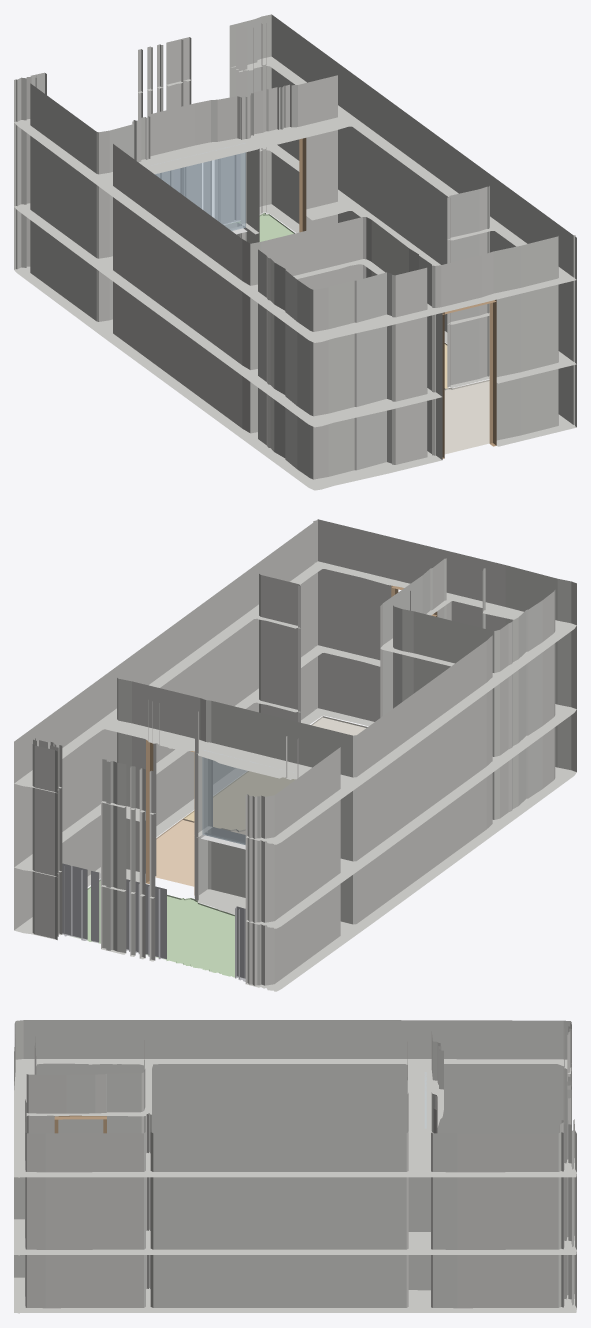
3 renders of one model, top to bottom at view 1: azimuth 30°, elevation 25°; view 2: azimuth 150°, elevation 25°; view 3: azimuth 270°, elevation 25°, orthographic. The views are drawn at different scales.
Visible parts, largest first — view 1: walls, window_3, railings, floor_4_Entry, door_2, door_0, floor_0_Outdoor; view 2: walls, railings, floor_0_Outdoor, window_3, floor_1_Kitchen, floor_2_Living_Room, door_0; view 3: walls.
Boxes of the visible parts, x1=… form: walls: x1=14, y1=14, x2=576, y2=490; window_3: x1=155, y1=143, x2=245, y2=230; railings: x1=155, y1=154, x2=240, y2=224; floor_4_Entry: x1=444, y1=379, x2=489, y2=454; door_2: x1=442, y1=299, x2=496, y2=458; door_0: x1=299, y1=138, x2=306, y2=232; floor_0_Outdoor: x1=230, y1=212, x2=294, y2=241; walls: x1=14, y1=519, x2=576, y2=991; railings: x1=62, y1=863, x2=245, y2=981; floor_0_Outdoor: x1=69, y1=879, x2=234, y2=977; window_3: x1=202, y1=750, x2=295, y2=844; floor_1_Kitchen: x1=183, y1=771, x2=295, y2=830; floor_2_Living_Room: x1=155, y1=818, x2=245, y2=886; door_0: x1=146, y1=740, x2=194, y2=895; walls: x1=14, y1=1020, x2=576, y2=1313.
Bounding box in the file's own units: 3.94 × 2.72 × 7.88.
